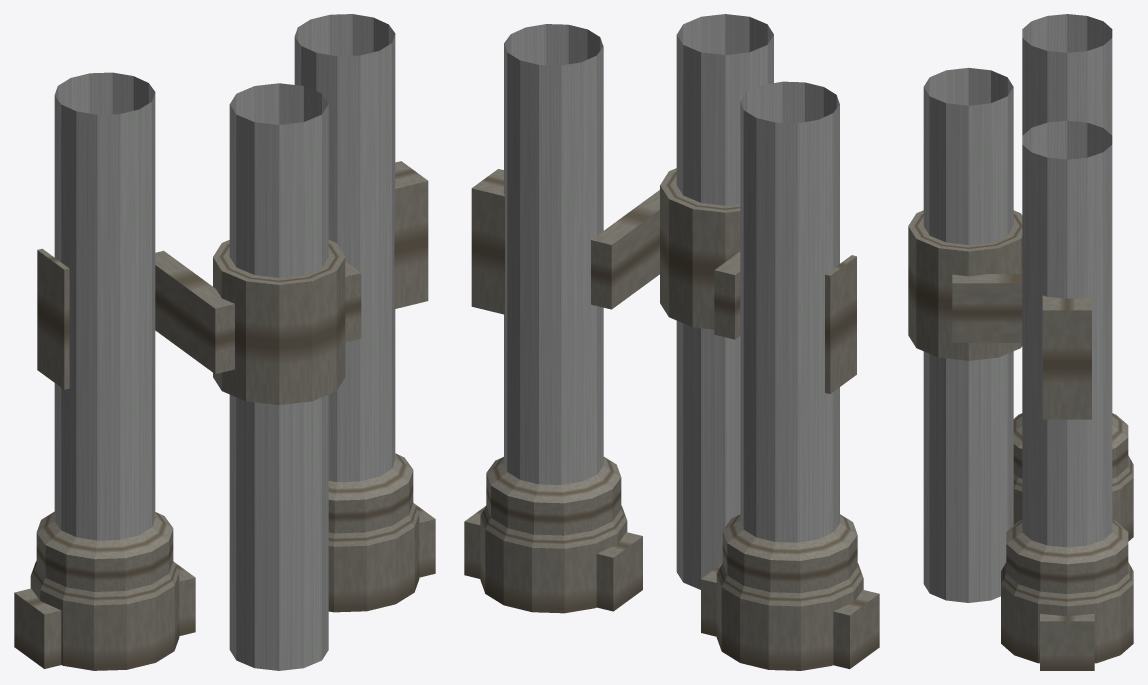
File: cell_2.obj
3 views of the same model, side by side, from view 1: azimuth 30°, elevation 25°; view 2: azimuth 150°, elevation 25°; view 3: azimuth 270°, elevation 25° (orthographic). The views are drawn at different scales.
Bounding box in the file's own units: 0.75 × 1 × 0.4109.
